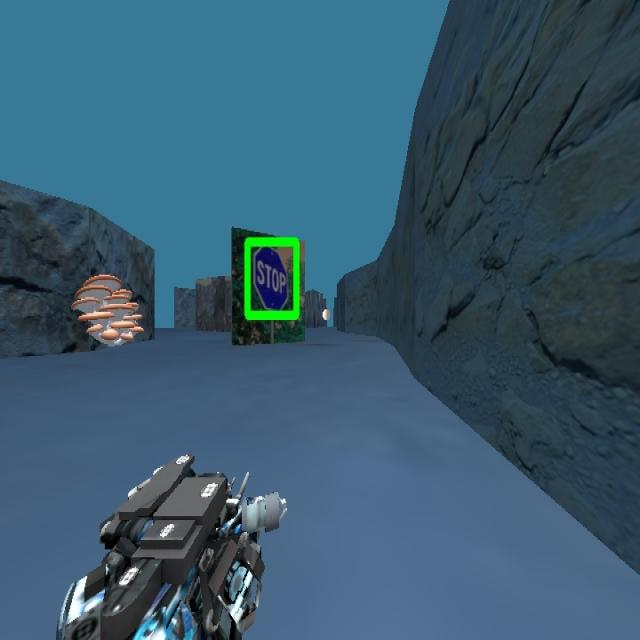Mushroom: (70, 272, 143, 347)
Stop_Sign: (242, 235, 300, 321)
